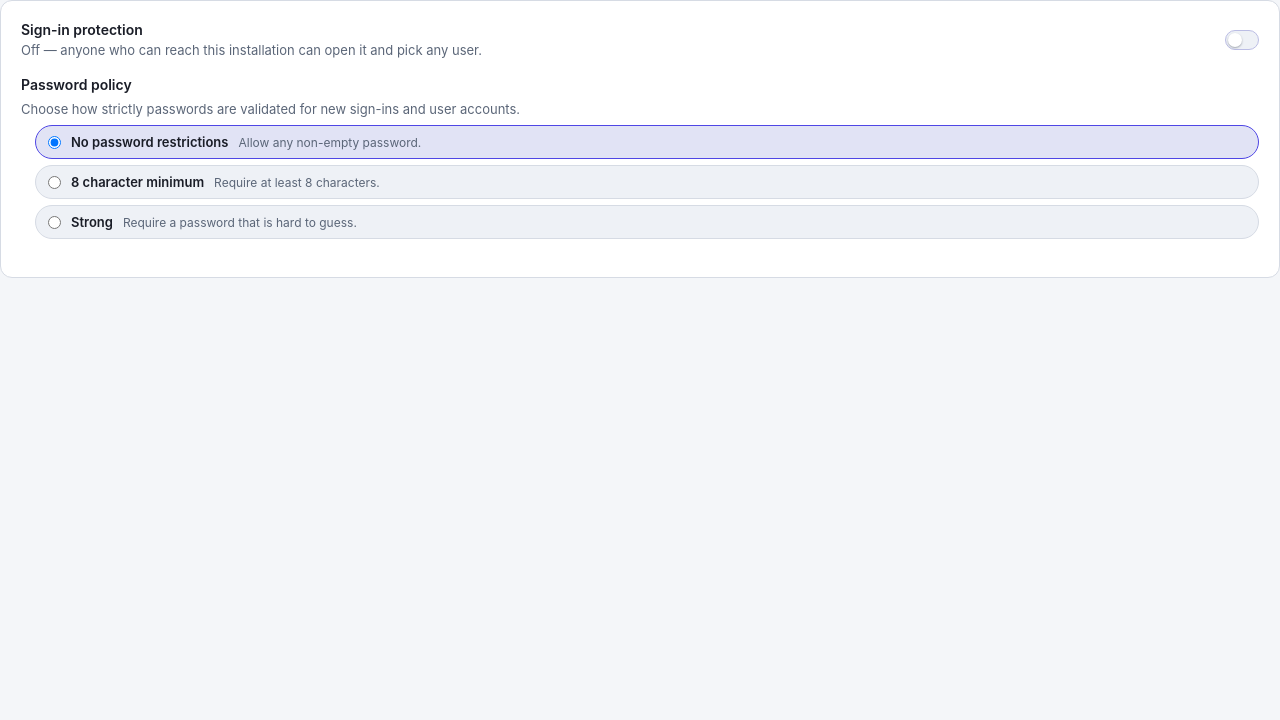
Test: the sign-in protection switch › opens the enable form without moving, and Cancel closes it
Click the switch named "Sign-in protection" at (1242, 40), box [1225,30,1259,50]
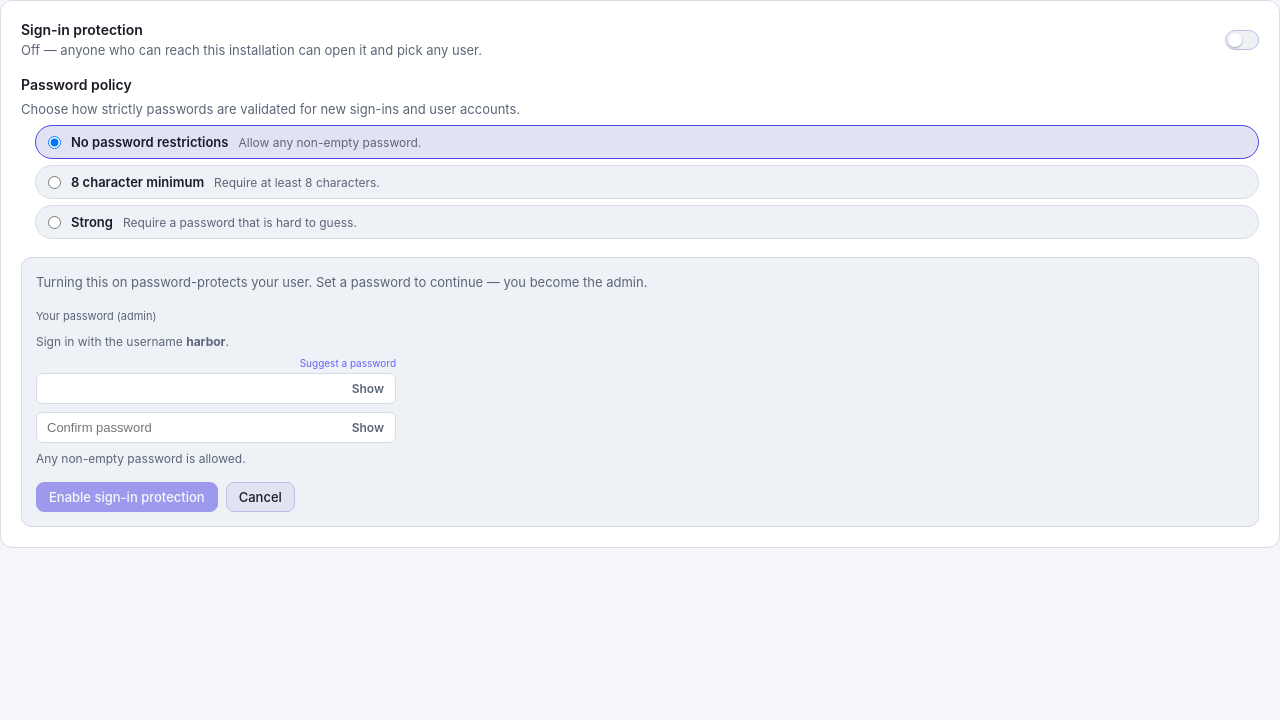
Expected: the password field named "Your password" is shown, [36,373,396,404]
Click the button "Cancel" at (260, 497), box [226,482,295,512]
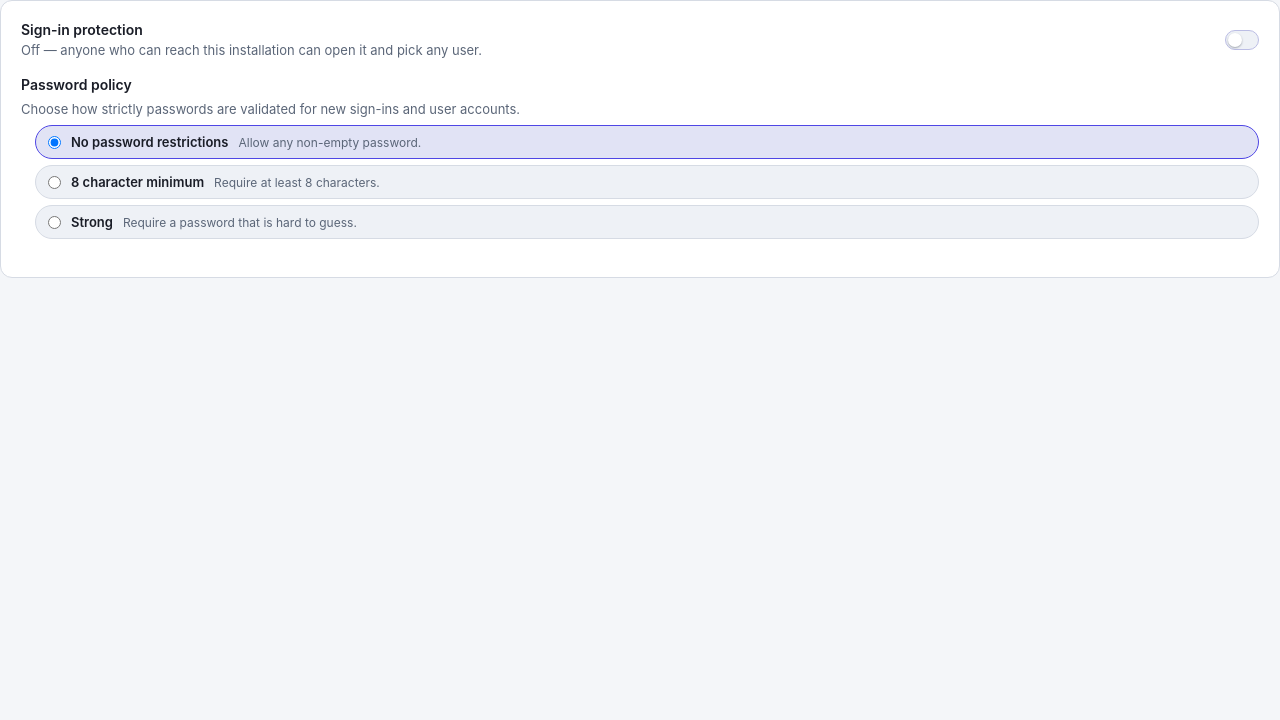
Expected: the label labelled "Your password" is gone
